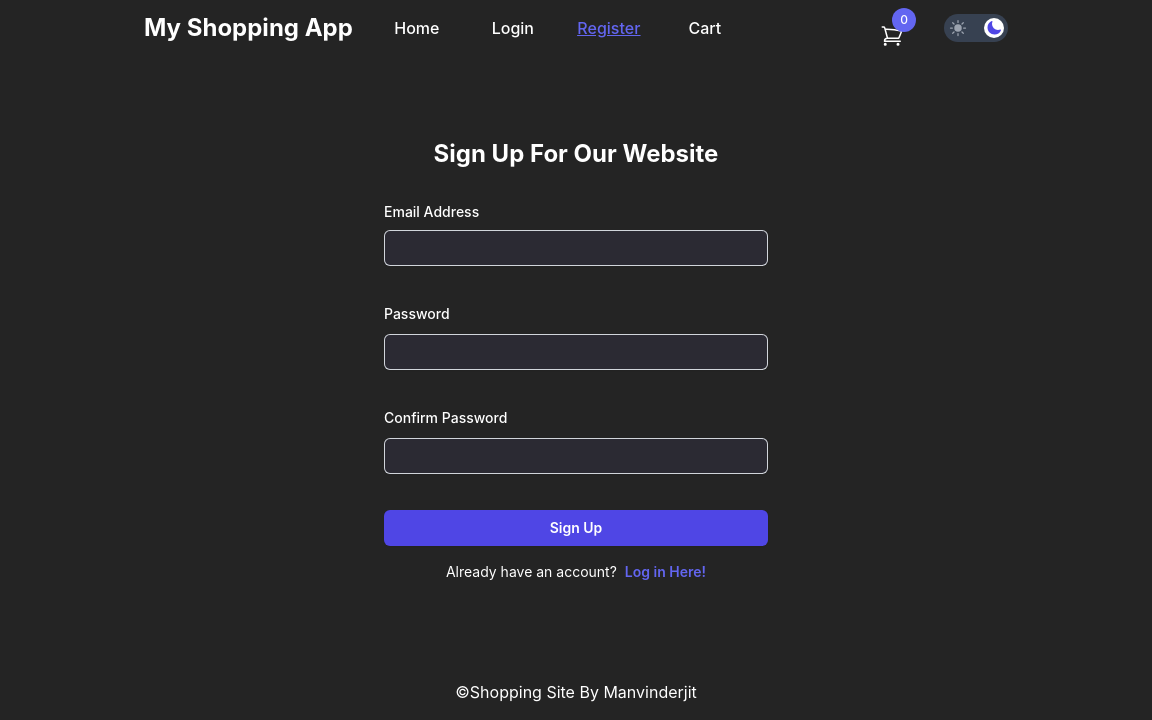
should redirect to Login › should redirect to Login via the 'Log In Here' link
Expected: the heading "Sign Up For Our Website" is shown, x1=434 y1=139 x2=718 y2=168
# Action: Click on 'Log In Here'
Click the link "Log in Here!" at (665, 572), box x1=625 y1=563 x2=706 y2=580
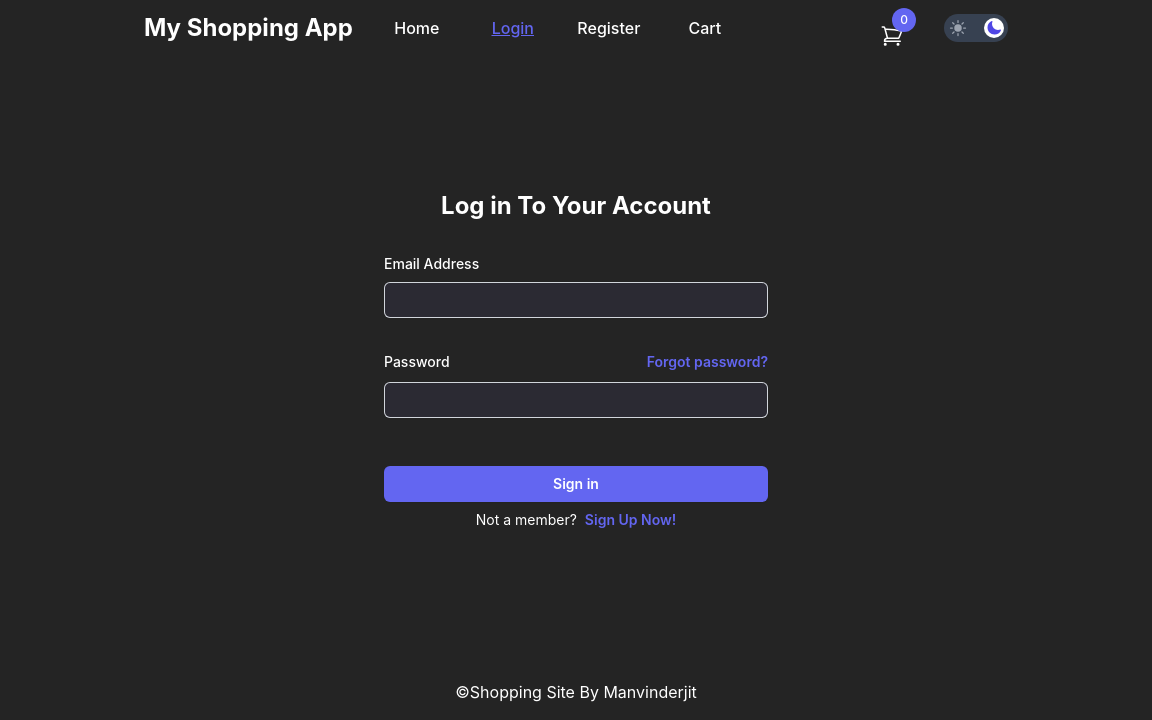
Expected: the heading "Sign Up For Our Website" is gone
Expected: the heading "Log in To Your Account" is shown, x1=441 y1=191 x2=711 y2=220
